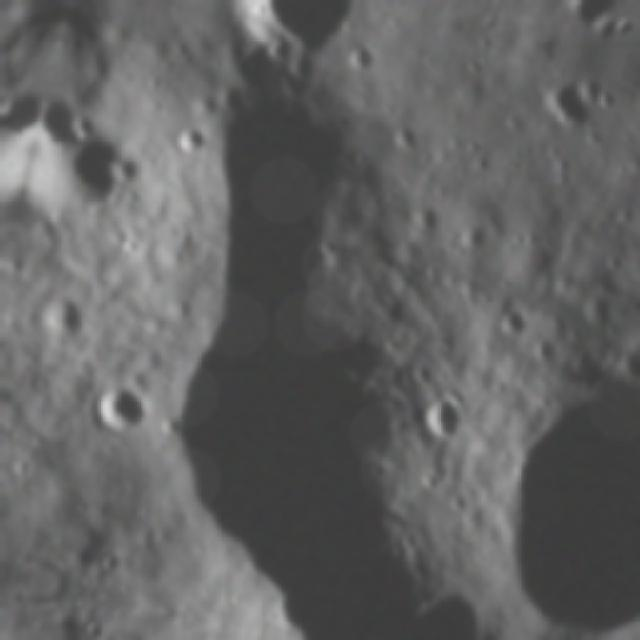crater: (19, 90, 153, 236), (524, 61, 619, 150), (75, 369, 168, 454), (21, 277, 102, 352), (406, 383, 476, 460), (485, 291, 546, 352), (336, 32, 389, 82), (166, 115, 211, 160)
